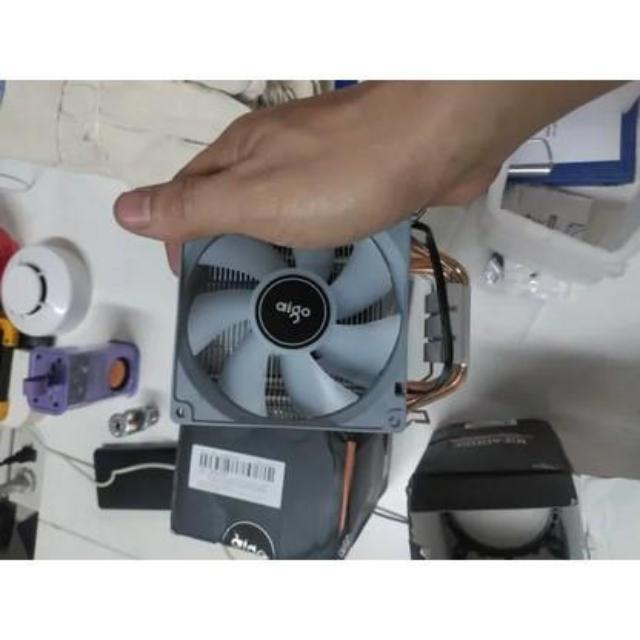CPU_Fan: (165, 192, 472, 437)
